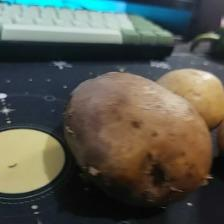Damaged potato: (66, 65, 210, 208)
Potato: (153, 61, 224, 128)
